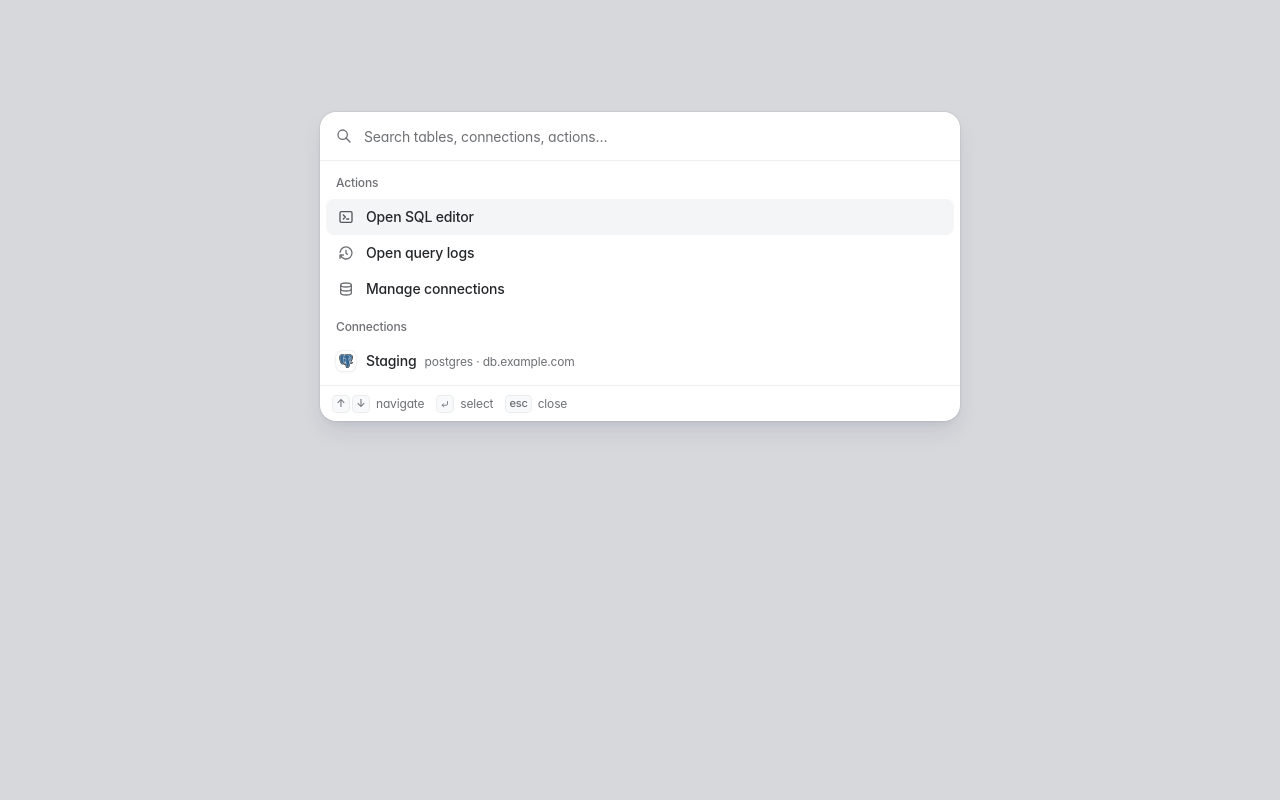
connecting from the palette › says why a connect failed once the palette has closed
The image size is (1280, 800).
Click the text "Staging". click: coordinates (391, 360)
box: [366,350,416,370]
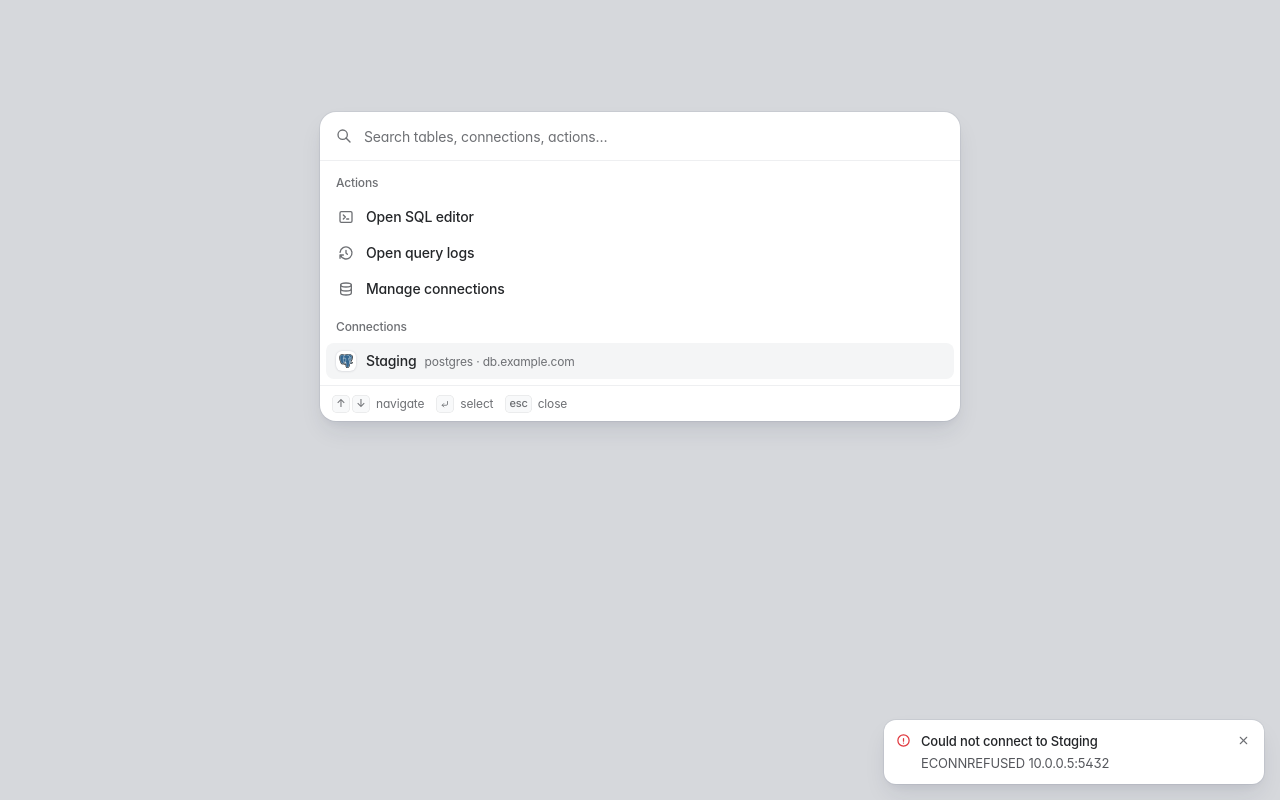
Result: the text "Could not connect to Staging" is shown at [921,732,1098,750]
Result: the text "ECONNREFUSED 10.0.0.5:5432" is shown at [921,755,1109,771]
